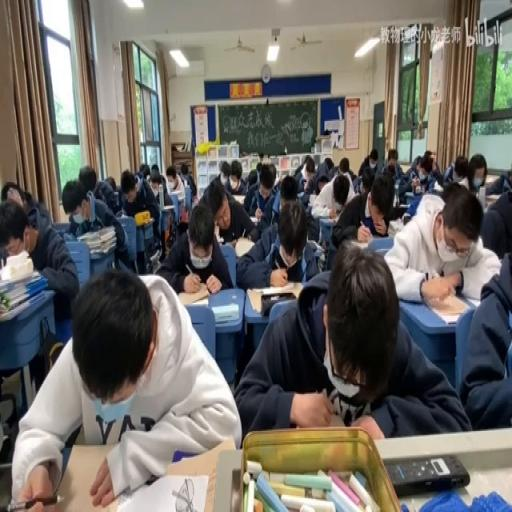calculator: (116, 469, 209, 509), (246, 282, 302, 312), (422, 292, 473, 324), (75, 224, 117, 254), (176, 286, 209, 304), (212, 302, 238, 324), (234, 234, 256, 258), (366, 235, 394, 253), (461, 294, 480, 308), (148, 248, 160, 270), (306, 239, 322, 253), (232, 193, 246, 205), (318, 216, 336, 225), (485, 192, 500, 202), (223, 238, 237, 248), (403, 189, 416, 199), (307, 194, 317, 206), (400, 165, 412, 175), (483, 175, 498, 183), (249, 214, 260, 224), (150, 182, 158, 195), (112, 189, 118, 206), (160, 204, 174, 210), (433, 181, 443, 189), (296, 191, 305, 199), (118, 209, 124, 218), (218, 236, 224, 243)
paper: (12, 266, 234, 509), (233, 242, 462, 439), (382, 181, 500, 304), (1, 192, 77, 336), (234, 196, 320, 290), (154, 199, 230, 295), (333, 170, 397, 248), (120, 166, 162, 266), (480, 168, 512, 260), (78, 165, 118, 219), (400, 150, 438, 200), (442, 154, 472, 189), (217, 156, 241, 195), (20, 188, 42, 228), (386, 188, 409, 224), (357, 146, 379, 178), (179, 162, 196, 201), (289, 159, 307, 192), (467, 160, 486, 190), (1, 180, 23, 204), (333, 175, 349, 205), (166, 185, 184, 203), (269, 162, 280, 188), (338, 155, 350, 172), (246, 168, 258, 185), (387, 148, 398, 165), (104, 175, 117, 189), (138, 164, 150, 179), (323, 155, 334, 171), (150, 166, 159, 184), (317, 179, 327, 195), (133, 174, 142, 190), (421, 155, 431, 169), (166, 174, 175, 188), (305, 162, 313, 175), (255, 160, 262, 174), (261, 154, 270, 164), (509, 169, 512, 182)
person: (384, 452, 470, 494)
